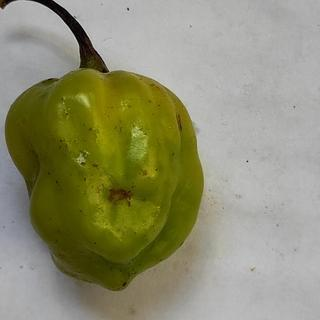Defect: (101, 182, 142, 216)
striped: (173, 111, 186, 135)
